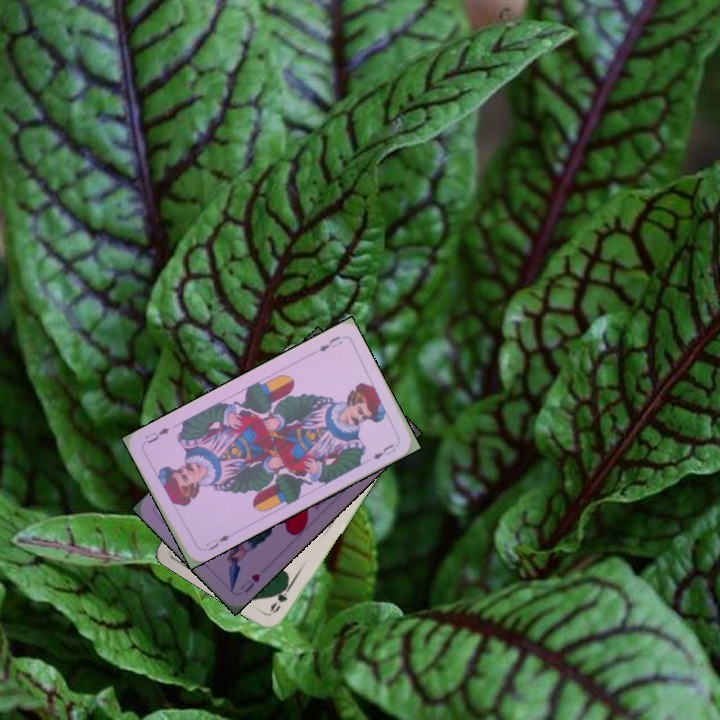EU: (201, 531, 232, 553), (315, 332, 345, 354)
GO: (266, 578, 295, 616)
HU: (237, 569, 262, 596)
